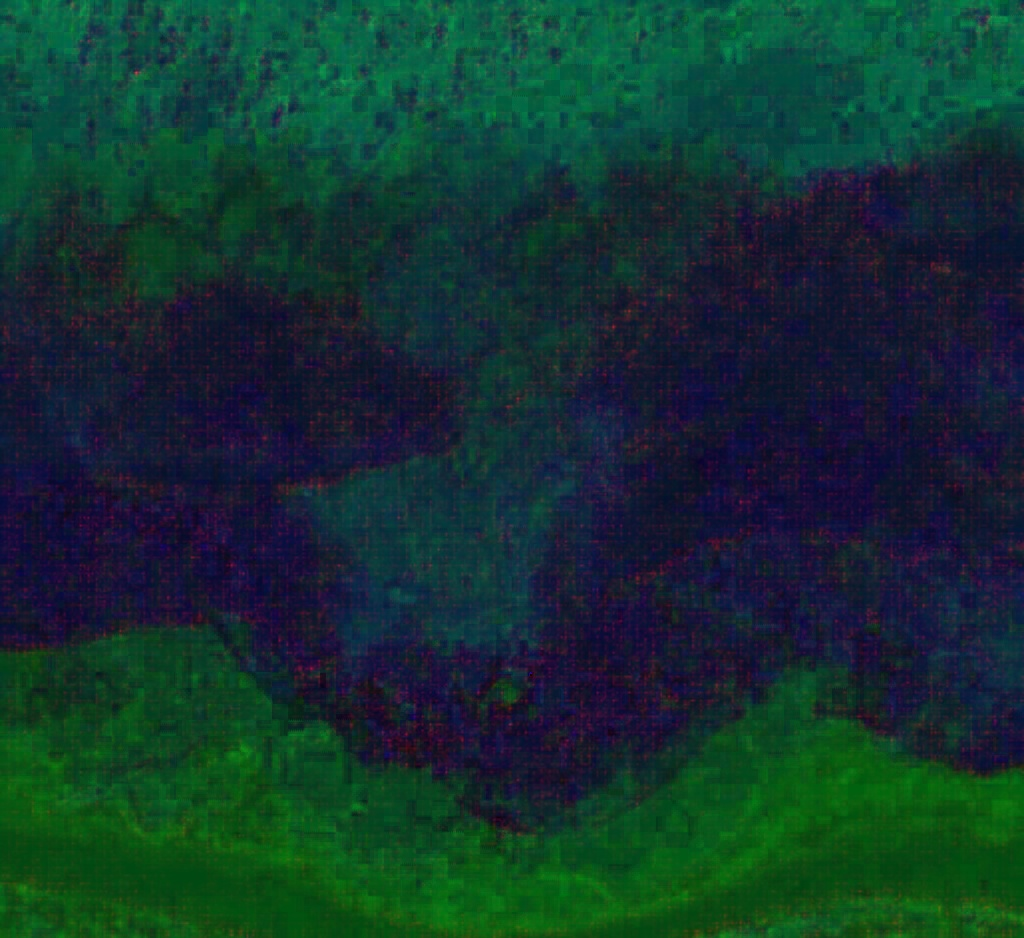rip_current: (244, 114, 647, 700)
